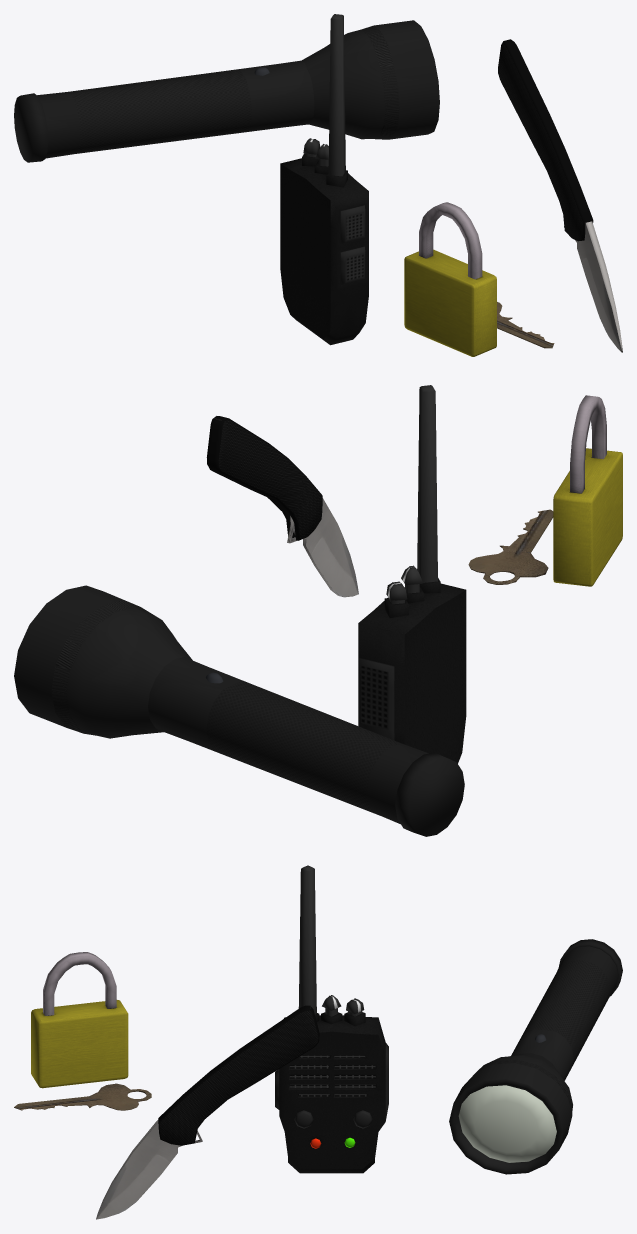
File: HorrorKit-V2.0.obj
3 views of the same model, one above another, from view 1: azimuth 30°, elevation 25°; view 2: azimuth 150°, elevation 25°; view 3: azimuth 270°, elevation 25° (orthographic). The views are drawn at different scales.
Visible parts, largest first — view 1: Flashlight-V2.001, Radio-V2.0.002, Lock_Body-V2.001, Knife_Handle-V2.0, Radio-V2.0_Antenna.002, Knife_Blade-V2.0, Lock_Bar-V2.001, Key-V2.001; view 2: Flashlight-V2.001, Radio-V2.0.002, Lock_Body-V2.001, Knife_Handle-V2.0, Radio-V2.0_Antenna.002, Knife_Blade-V2.0, Key-V2.001, Lock_Bar-V2.001; view 3: Flashlight-V2.001, Radio-V2.0.002, Lock_Body-V2.001, Knife_Handle-V2.0, Knife_Blade-V2.0, Radio-V2.0_Antenna.002, Lock_Bar-V2.001, Key-V2.001, Radio-V2.0_Speaker.002.
Boxes of the visible parts, x1=… form: Flashlight-V2.001: x1=14, y1=20, x2=439, y2=162; Radio-V2.0.002: x1=280, y1=153, x2=368, y2=345; Lock_Body-V2.001: x1=404, y1=249, x2=496, y2=356; Knife_Handle-V2.0: x1=498, y1=39, x2=593, y2=241; Radio-V2.0_Antenna.002: x1=328, y1=14, x2=345, y2=176; Knife_Blade-V2.0: x1=564, y1=221, x2=622, y2=352; Lock_Bar-V2.001: x1=419, y1=202, x2=482, y2=279; Key-V2.001: x1=497, y1=302, x2=554, y2=348; Flashlight-V2.001: x1=14, y1=585, x2=464, y2=836; Radio-V2.0.002: x1=358, y1=578, x2=466, y2=763; Lock_Body-V2.001: x1=553, y1=448, x2=622, y2=586; Knife_Handle-V2.0: x1=206, y1=416, x2=322, y2=540; Radio-V2.0_Antenna.002: x1=417, y1=385, x2=437, y2=582; Knife_Blade-V2.0: x1=287, y1=498, x2=358, y2=597; Key-V2.001: x1=468, y1=509, x2=553, y2=584; Lock_Bar-V2.001: x1=570, y1=395, x2=606, y2=493; Flashlight-V2.001: x1=449, y1=939, x2=622, y2=1174; Radio-V2.0.002: x1=275, y1=1012, x2=388, y2=1173; Lock_Body-V2.001: x1=31, y1=1000, x2=128, y2=1088; Knife_Handle-V2.0: x1=158, y1=1005, x2=319, y2=1145; Knife_Blade-V2.0: x1=96, y1=1120, x2=202, y2=1219; Radio-V2.0_Antenna.002: x1=298, y1=865, x2=316, y2=1014; Lock_Bar-V2.001: x1=43, y1=952, x2=116, y2=1015; Key-V2.001: x1=14, y1=1083, x2=151, y2=1110; Radio-V2.0_Speaker.002: x1=289, y1=1055, x2=375, y2=1096.
Bounding box in the file's own units: 5.72 × 4.78 × 8.77.
